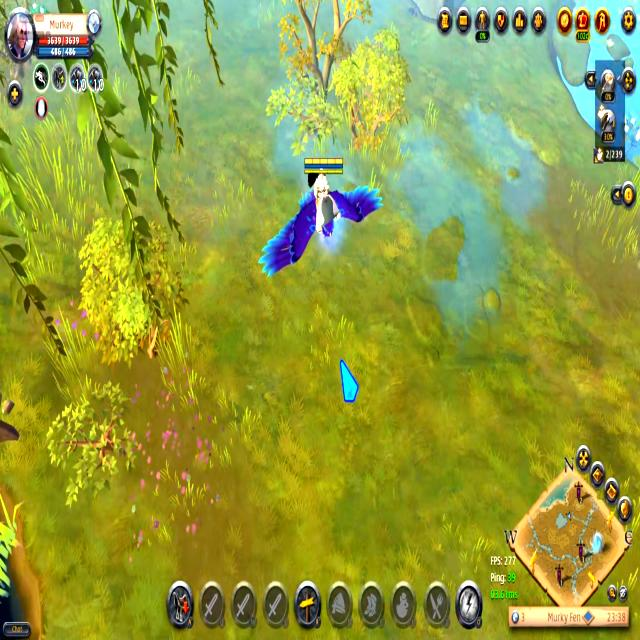hide: (615, 110, 640, 157), (24, 0, 51, 26)
red: (257, 148, 388, 284)
